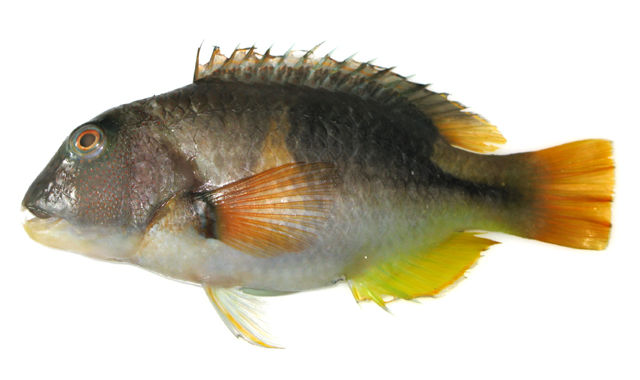fish: (23, 42, 616, 350)
